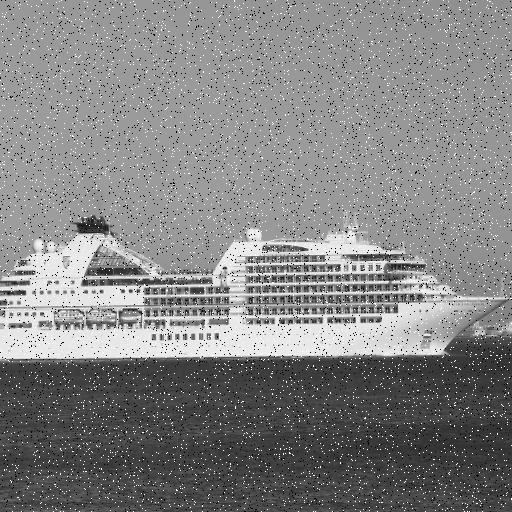cruises: (1, 193, 512, 364)
